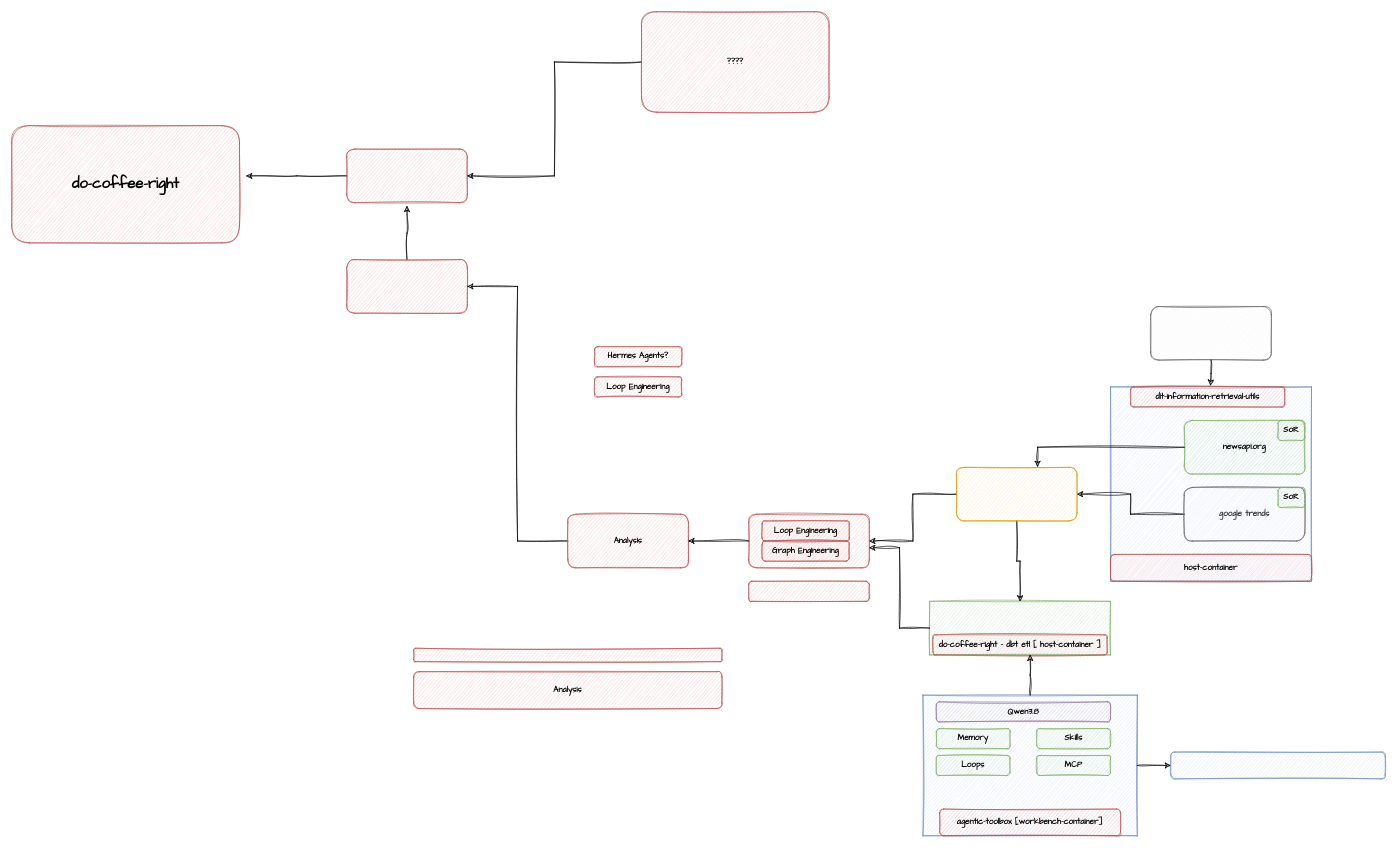
Image size: 1397x848. Some labels were removed from this diagram. Here are the shapes that lost their labels. From the top down, the centre of each, then its label:
At point 406,175: "great design pattern".
At point 406,286: "great-content".
At point 1210,333: "NamingConventions".
At point 1016,494: "GCS".
At point 808,591: "Pi Harnesser".
At point 567,655: "Credentials".
At point 1277,765: "Locally available for local developlemt".
